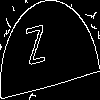Z: (25, 24, 48, 75)
